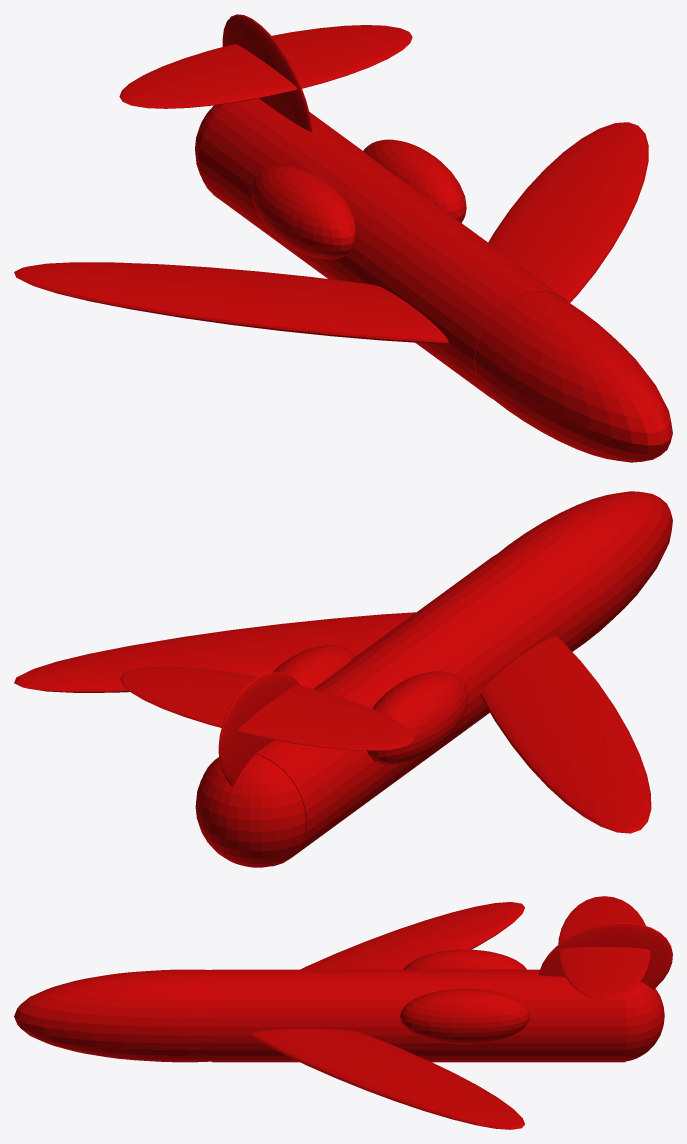
Rendered from jet.obj.
3 views of the same model, one above another, from view 1: azimuth 30°, elevation 25°; view 2: azimuth 150°, elevation 25°; view 3: azimuth 270°, elevation 25° (orthographic). The views are drawn at different scales.
Visible parts, largest first — view 1: Cylinder, Sphere, Sphere.002, Sphere.001, Sphere.007_Sphere.009, Sphere.004_Sphere.011, Sphere.003_Sphere.012, Sphere.006_Sphere.008; view 2: Cylinder, Sphere.002, Sphere.001, Sphere, Sphere.007_Sphere.009, Sphere.005_Sphere.007, Sphere.004_Sphere.011, Sphere.006_Sphere.008, Sphere.003_Sphere.012; view 3: Cylinder, Sphere, Sphere.001, Sphere.002, Sphere.007_Sphere.009, Sphere.003_Sphere.012, Sphere.006_Sphere.008, Sphere.005_Sphere.007, Sphere.004_Sphere.011.
Part boxes in pixels (box(x1,y1,x2,y2)): Cylinder: box(198, 98, 567, 398); Sphere: box(475, 291, 672, 462); Sphere.002: box(14, 262, 448, 344); Sphere.001: box(488, 122, 648, 302); Sphere.007_Sphere.009: box(119, 25, 412, 108); Sphere.004_Sphere.011: box(251, 165, 355, 259); Sphere.003_Sphere.012: box(363, 139, 466, 222); Sphere.006_Sphere.008: box(222, 14, 312, 131); Cylinder: box(203, 548, 583, 866); Sphere.002: box(480, 636, 651, 833); Sphere.001: box(14, 612, 415, 692); Sphere: box(499, 491, 672, 651); Sphere.007_Sphere.009: box(120, 666, 413, 750); Sphere.005_Sphere.007: box(195, 754, 305, 867); Sphere.004_Sphere.011: box(367, 671, 468, 765); Sphere.006_Sphere.008: box(218, 672, 300, 785); Sphere.003_Sphere.012: box(272, 645, 355, 688); Cylinder: box(212, 969, 625, 1062); Sphere: box(14, 969, 211, 1062); Sphere.001: box(250, 1028, 524, 1129); Sphere.002: box(300, 902, 524, 969); Sphere.007_Sphere.009: box(558, 896, 650, 1000); Sphere.003_Sphere.012: box(400, 988, 529, 1044); Sphere.006_Sphere.008: box(539, 922, 672, 989); Sphere.005_Sphere.007: box(625, 981, 664, 1061); Sphere.004_Sphere.011: box(403, 949, 526, 969).
Bounding box in the file's own units: 11.59 × 3.24 × 14.19.
